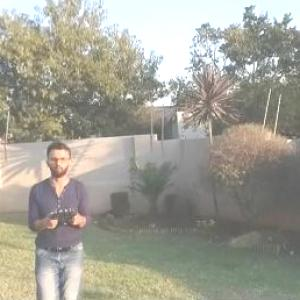follow: (25, 137, 96, 299)
